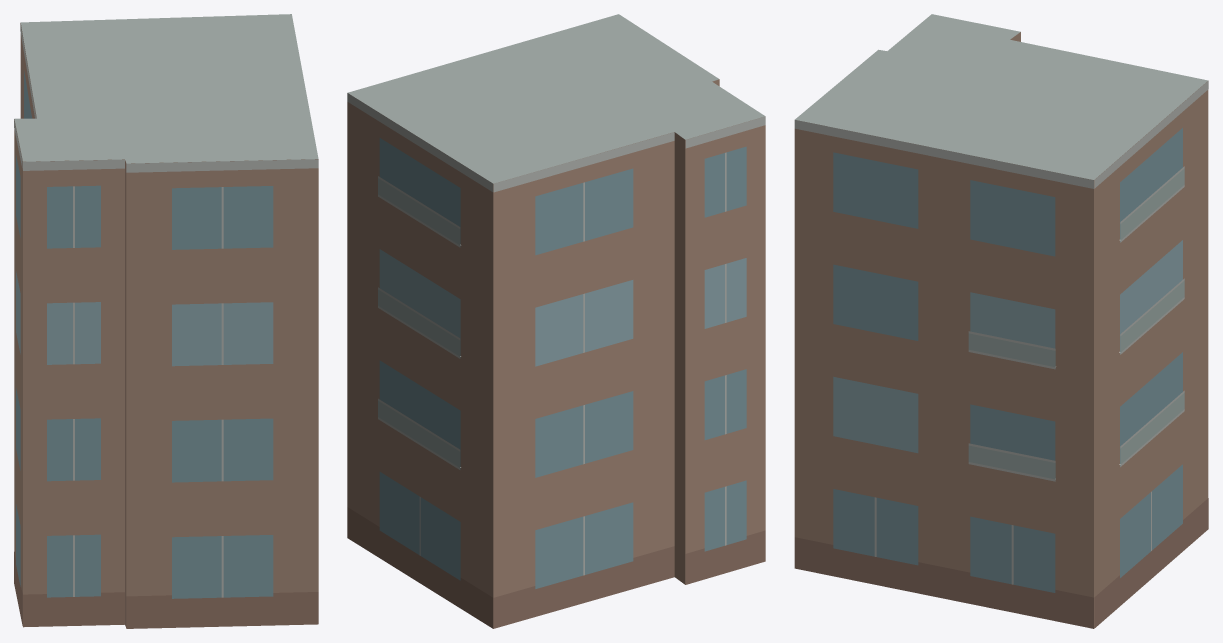
File: survey-upis-32505682.glb
3 renders of one model, left to right at view 1: azimuth 30°, elevation 25°; view 2: azimuth 150°, elevation 25°; view 3: azimuth 270°, elevation 25°, orthographic. The views are drawn at different scales.
Parts seen in each view (by area): view 1: survey-upis-32505682.tmp; view 2: survey-upis-32505682.tmp; view 3: survey-upis-32505682.tmp.
Part boxes in pixels (x1=…): survey-upis-32505682.tmp: x1=14, y1=14, x2=318, y2=628; survey-upis-32505682.tmp: x1=347, y1=14, x2=765, y2=628; survey-upis-32505682.tmp: x1=794, y1=14, x2=1208, y2=628.
Bounding box in the file's own units: 9.78 × 12.3 × 10.29.
